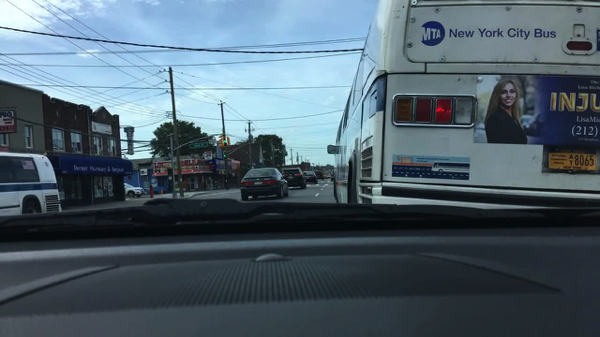bus: (326, 0, 599, 209), (0, 152, 64, 216)
car: (239, 168, 289, 202), (281, 168, 307, 189), (124, 183, 145, 198), (302, 170, 320, 184), (313, 171, 324, 181), (328, 169, 335, 181), (325, 173, 331, 178), (321, 173, 327, 178)
traffic light: (221, 134, 227, 148), (217, 139, 223, 148), (226, 137, 231, 147), (164, 163, 171, 169), (222, 151, 227, 159)
traffic sign: (189, 141, 207, 148)
